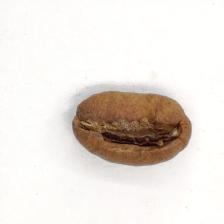NG: (78, 92, 184, 161)
